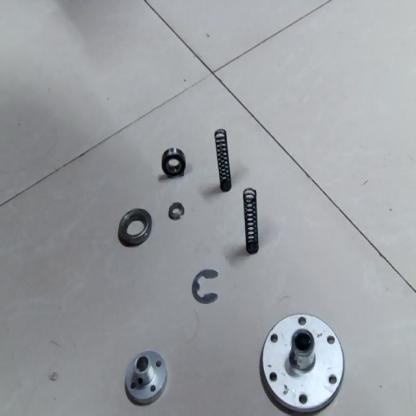FOD: (258, 309, 348, 415), (124, 347, 169, 411), (116, 204, 154, 253), (211, 127, 236, 196), (240, 184, 262, 260), (189, 266, 223, 307), (158, 148, 188, 184), (164, 201, 186, 225)
